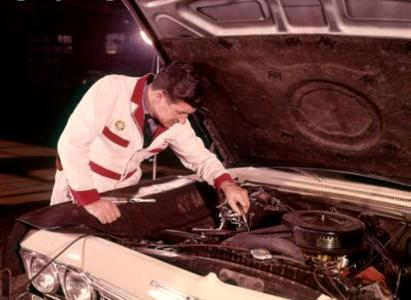person: (51, 60, 252, 226)
